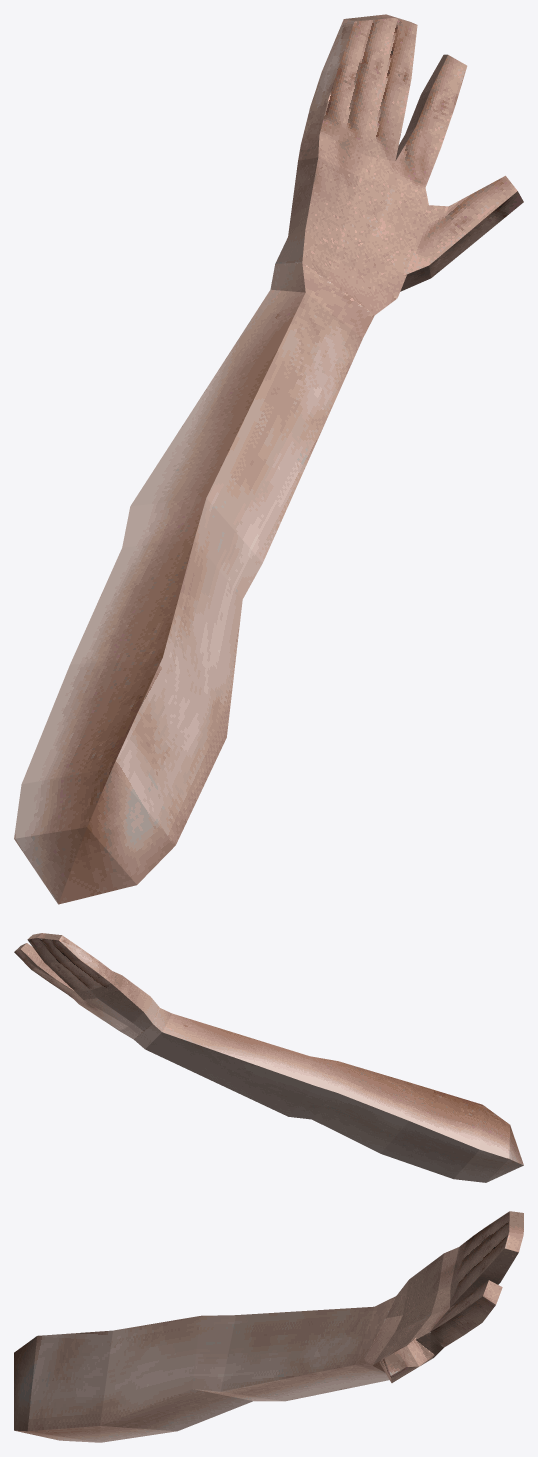
Rendered from mao_R.glb.
3 renders of one model, top to bottom at view 1: azimuth 30°, elevation 25°; view 2: azimuth 150°, elevation 25°; view 3: azimuth 270°, elevation 25°, orthographic. The views are drawn at different scales.
Visible parts, largest first — view 1: mao_R; view 2: mao_R; view 3: mao_R.
Boxes of the visible parts, box(x1,y1,x2,y2) form: mao_R: box(14, 14, 523, 904); mao_R: box(14, 933, 523, 1182); mao_R: box(14, 1211, 523, 1442).
Size of the model in its own units: 0.4707 by 0.348 by 0.3569.
Materials: 1 (1 with a texture image).
